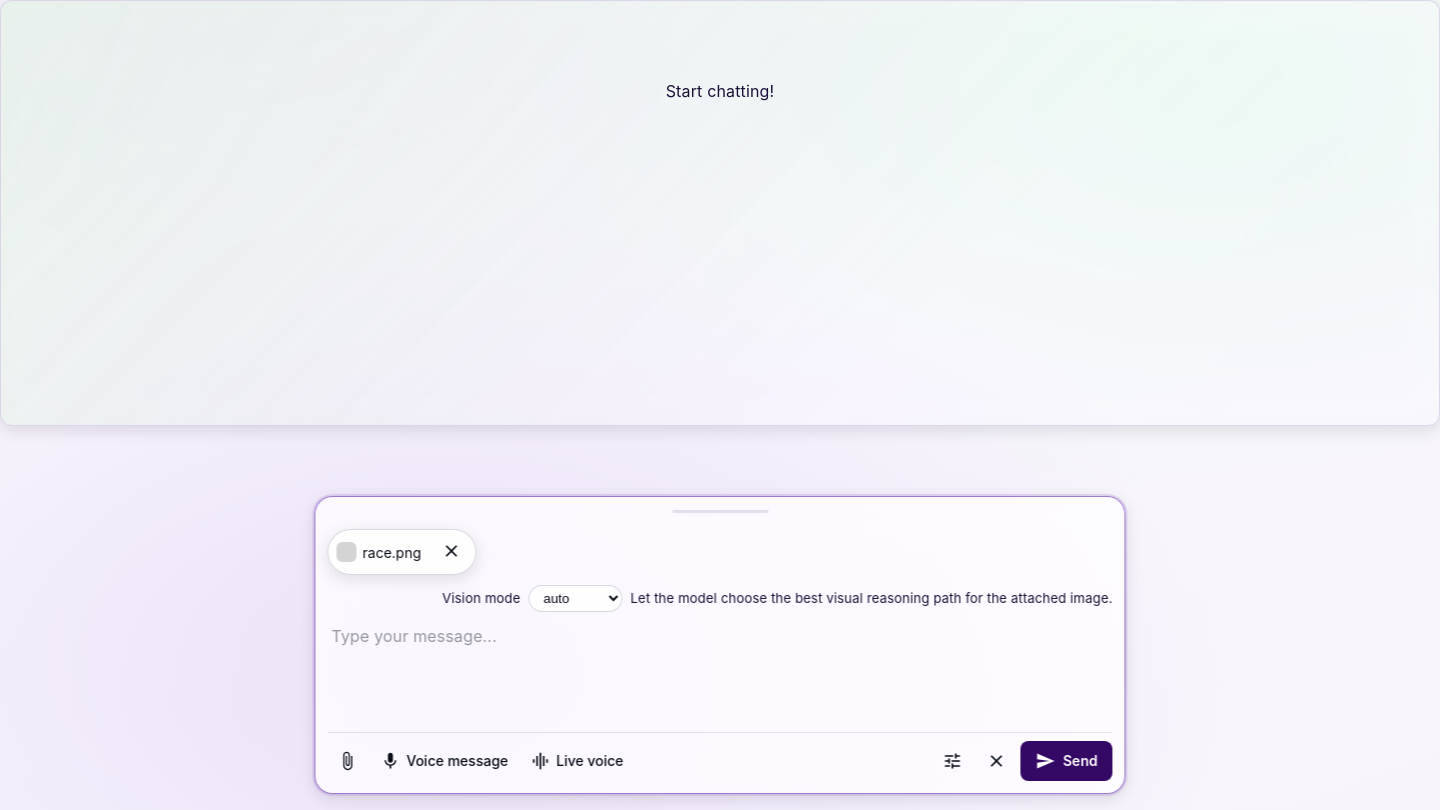
Chat vision integration › does not restore an attachment removed while the outbox list is pending
Expected: the text "race.png" is shown, [362,542,421,562]
Step 1. Click the button named "Remove race.png" → (451, 552), box [431,532,471,572]
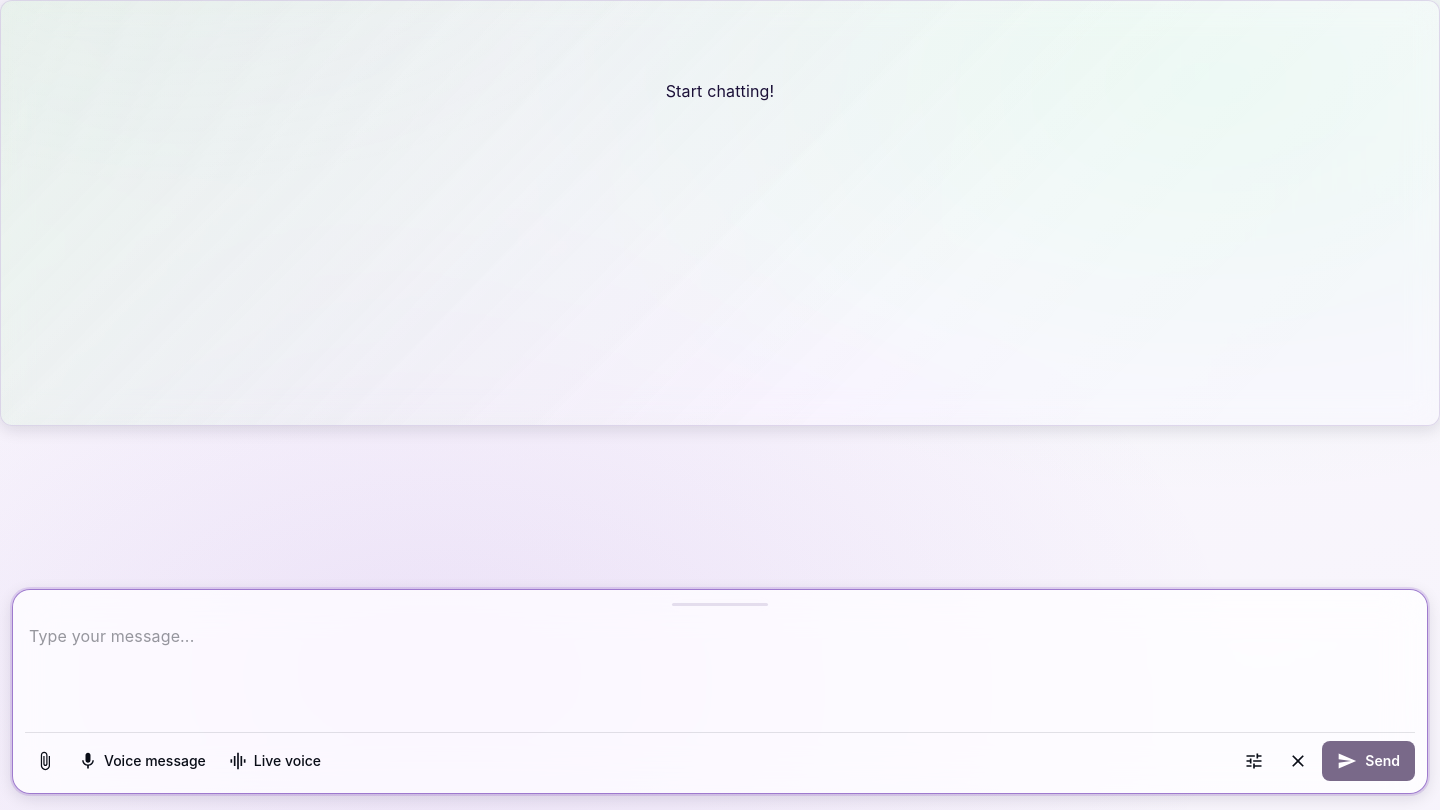
Expected: the button "race.png" is gone
